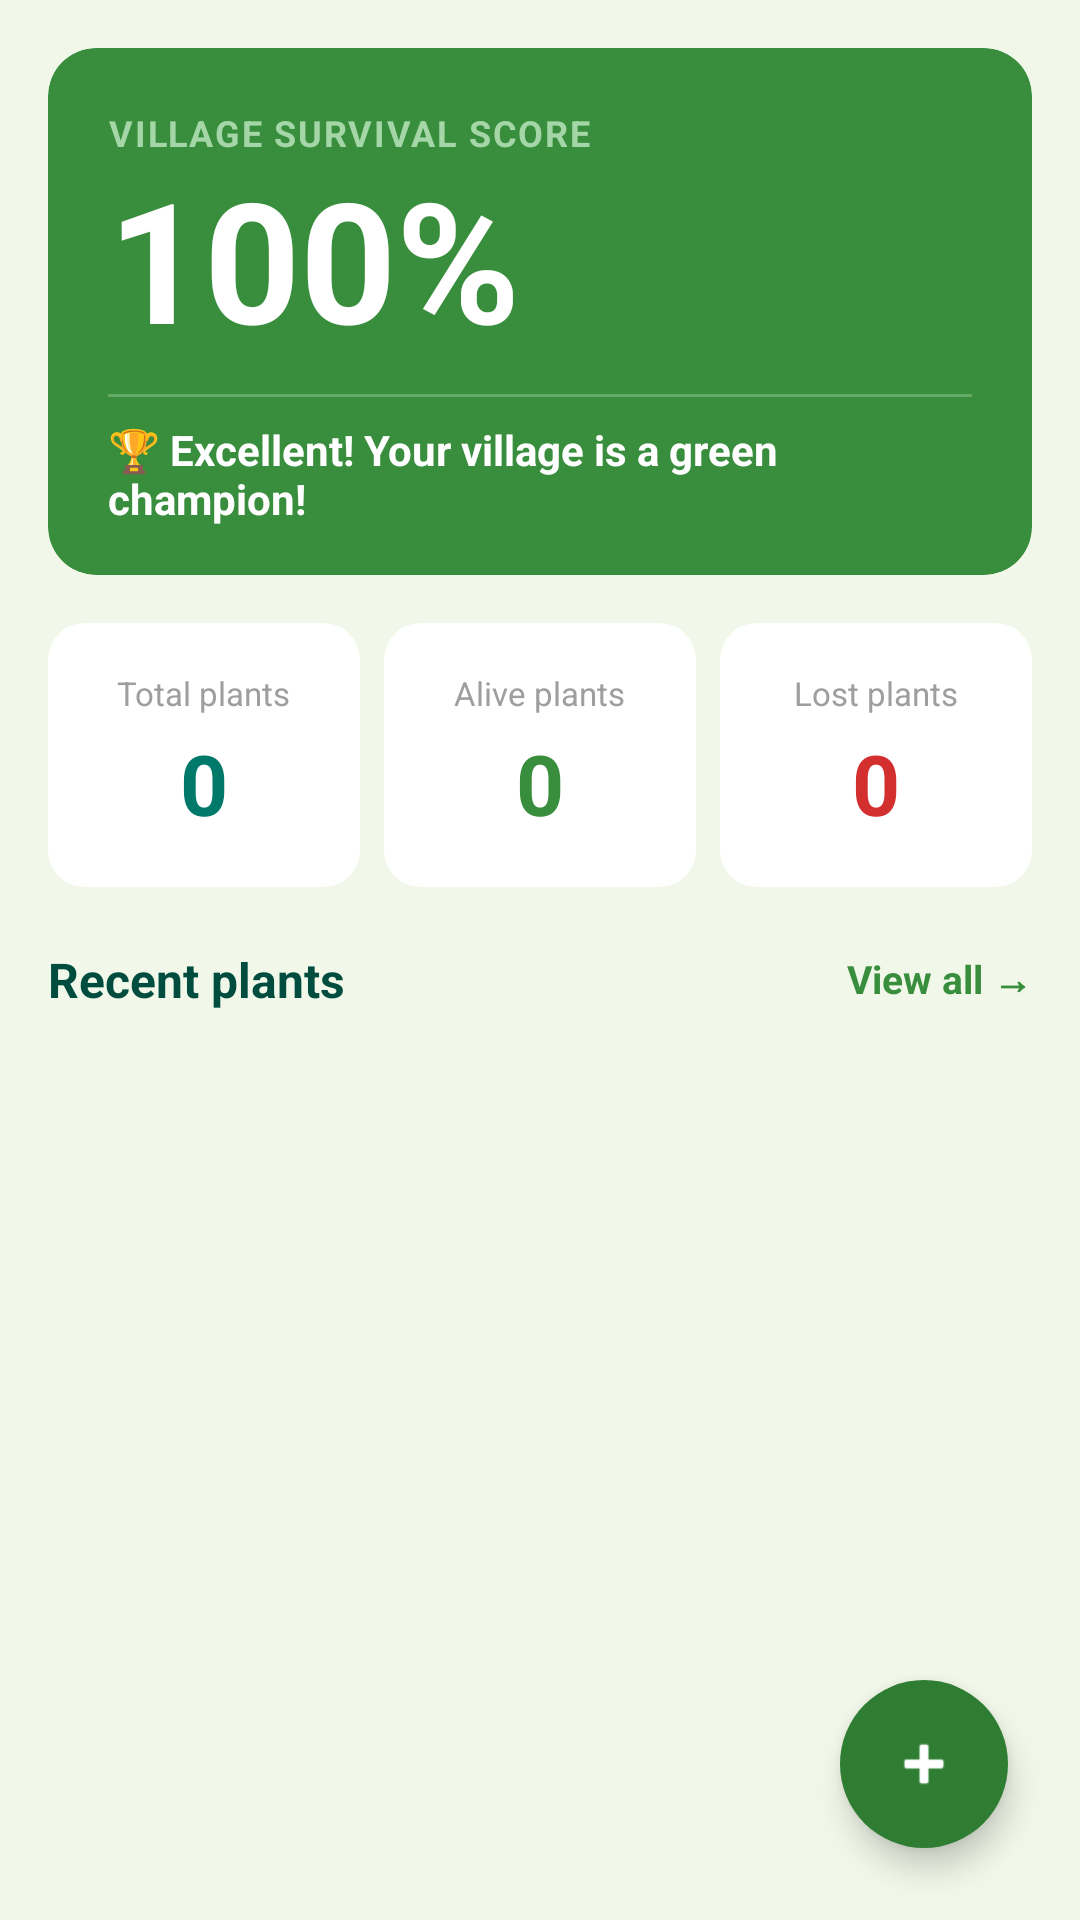

Screen size 1080x1920. Icon name, then its box in pixels as bbox(x1, y1, x2, y2):
Add Plant: bbox(840, 1680, 1008, 1848)
